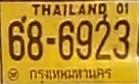2: (94, 19, 110, 59)
3: (113, 19, 130, 58)
6: (8, 19, 25, 60), (58, 20, 73, 59)
8: (27, 20, 42, 59)
9: (75, 19, 92, 59)
BKK: (28, 66, 112, 84)
